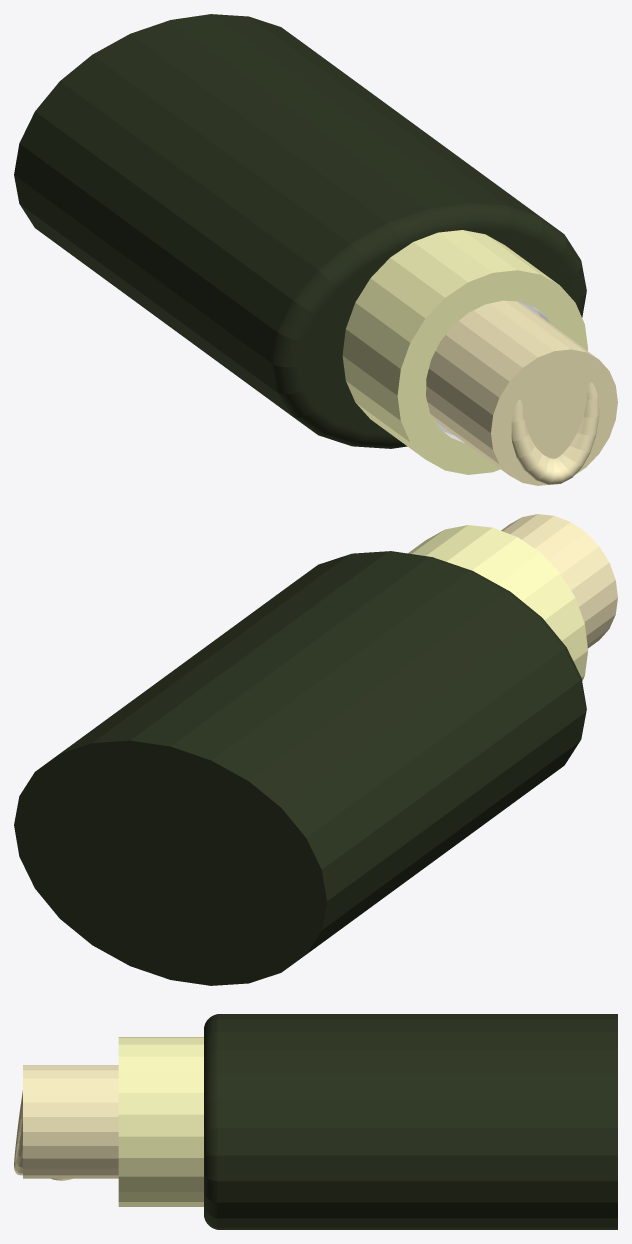
3 renders of one model, top to bottom at view 1: azimuth 30°, elevation 25°; view 2: azimuth 150°, elevation 25°; view 3: azimuth 270°, elevation 25°, orthographic. The views are drawn at different scales.
Parts seen in each view (by area): view 1: spray bottle; view 2: spray bottle; view 3: spray bottle.
Boxes of the visible parts, left/top/right/bottom form: spray bottle: left=14, top=14, right=617, bottom=485; spray bottle: left=14, top=514, right=617, bottom=985; spray bottle: left=14, top=1014, right=617, bottom=1229.
Size of the model in its own units: 3.8 by 2.7 by 8.18.
